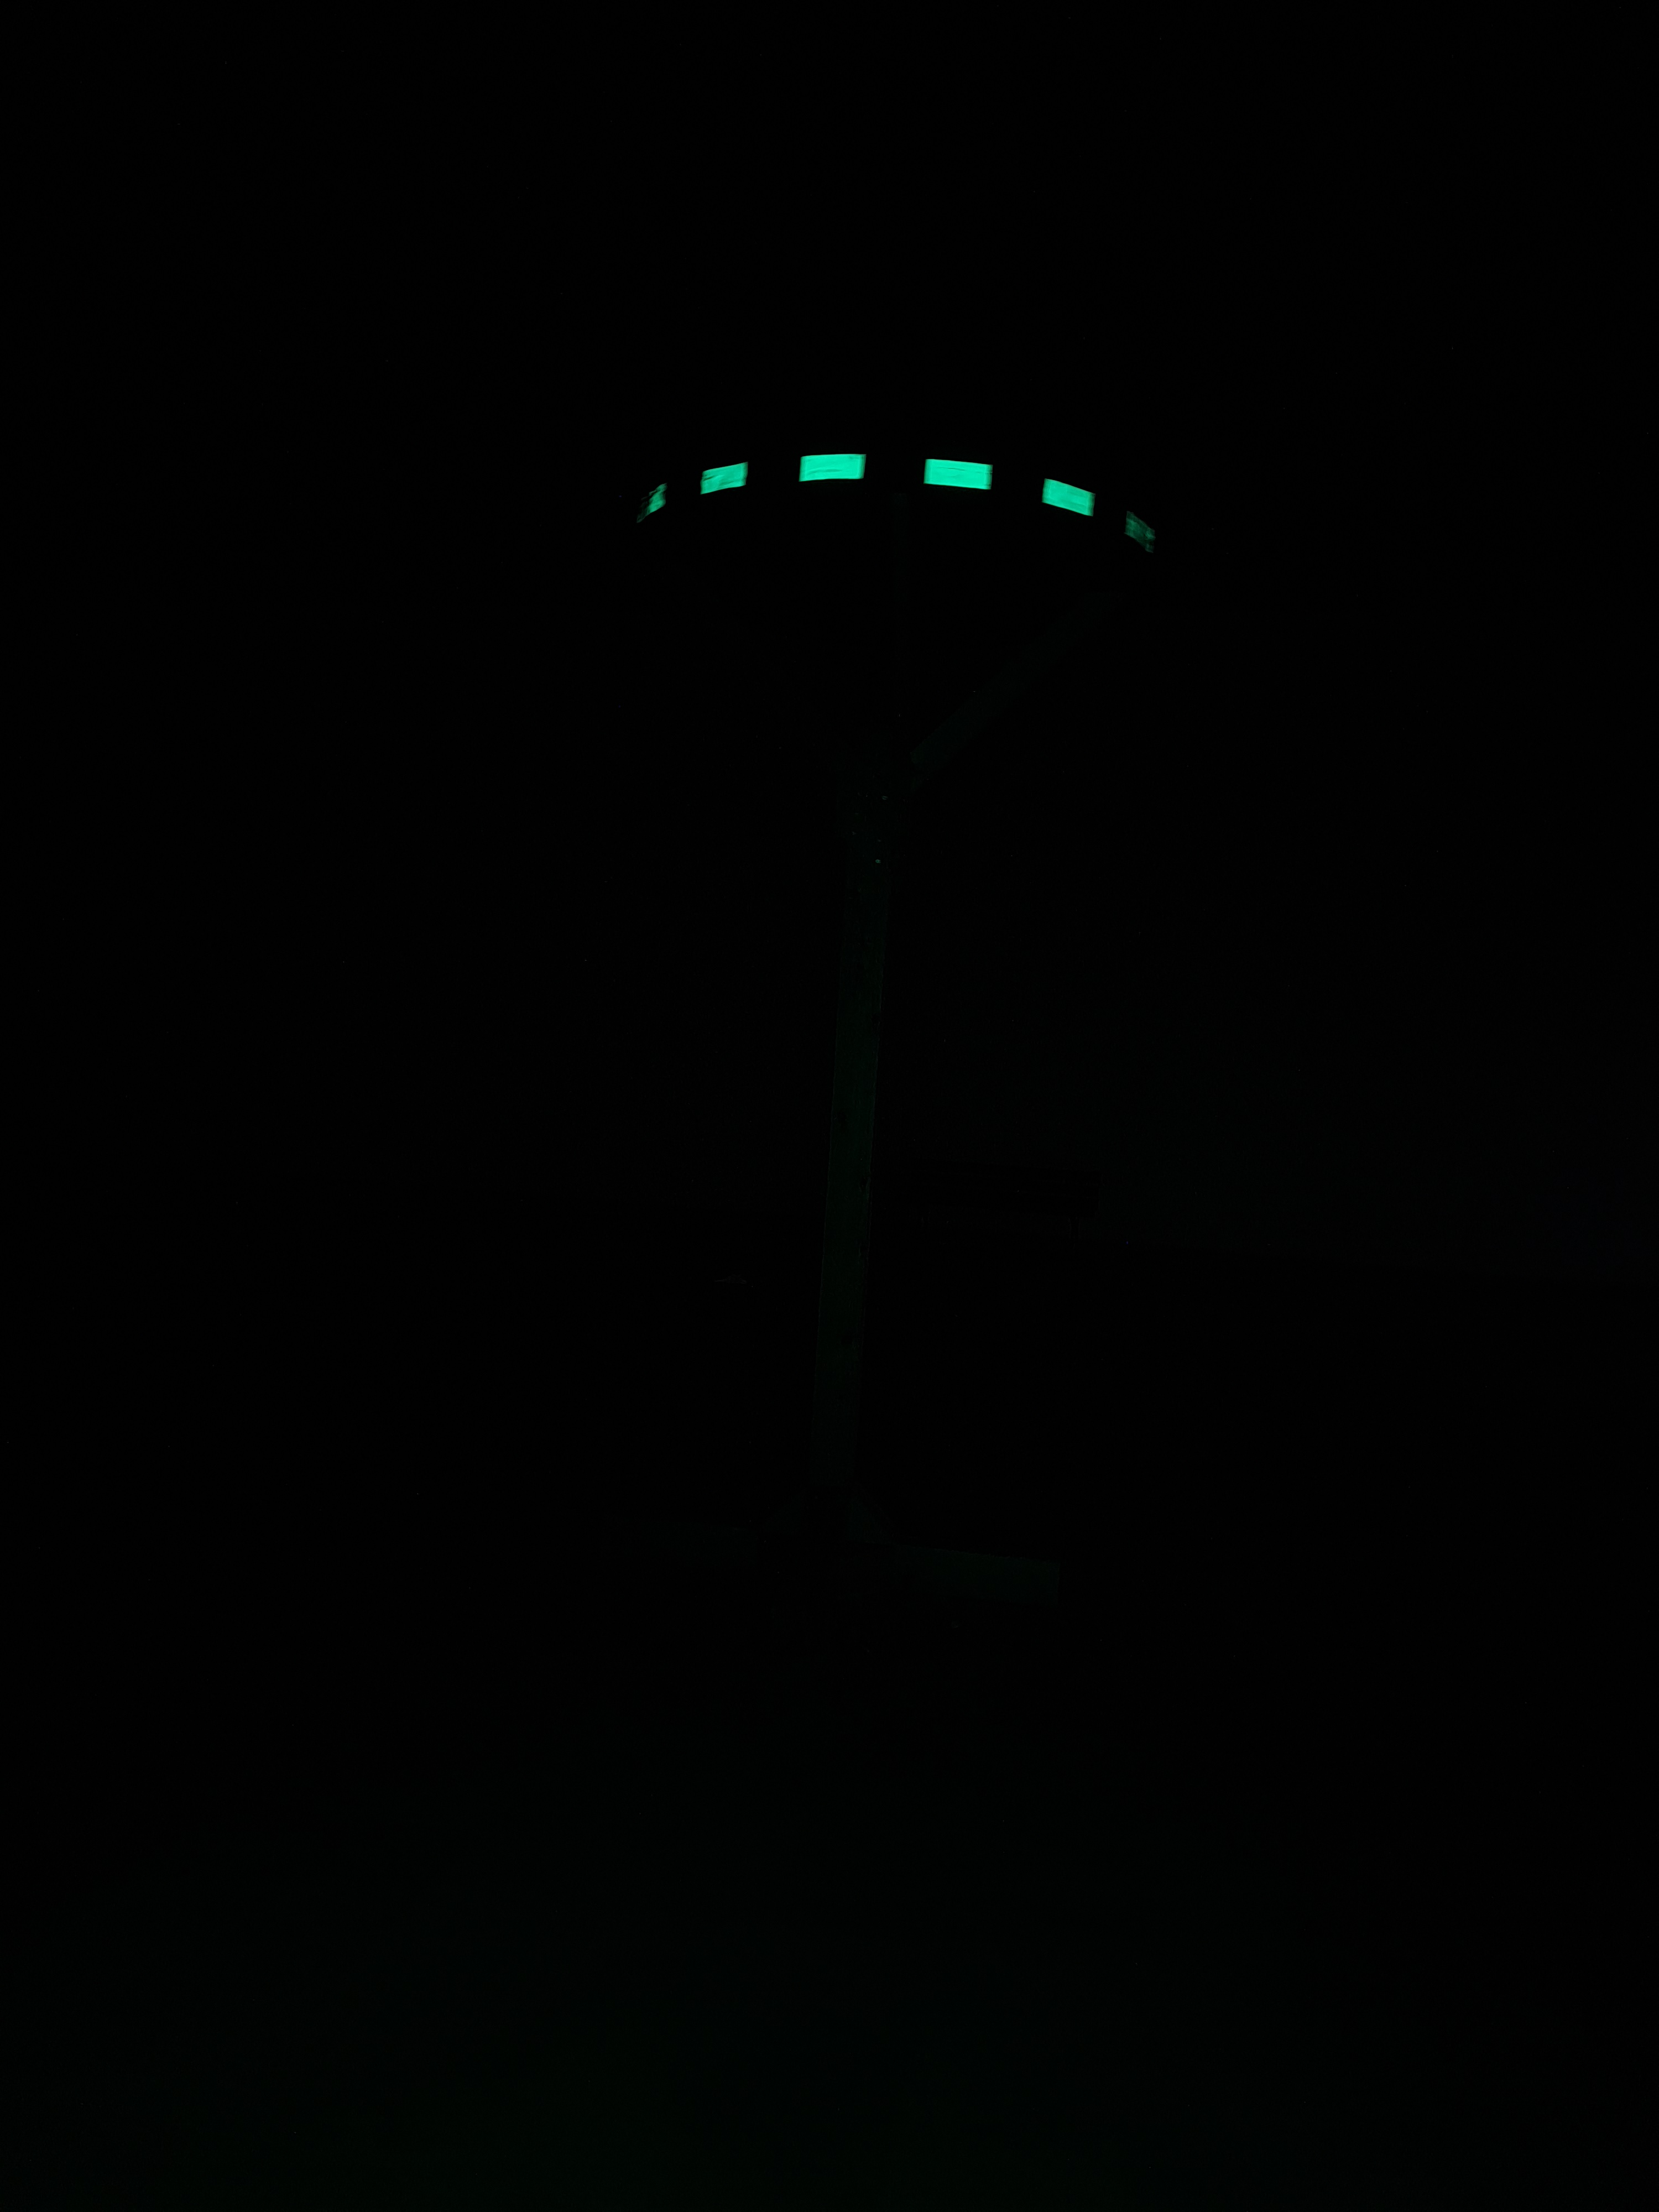hoop: (634, 449, 1164, 561)
